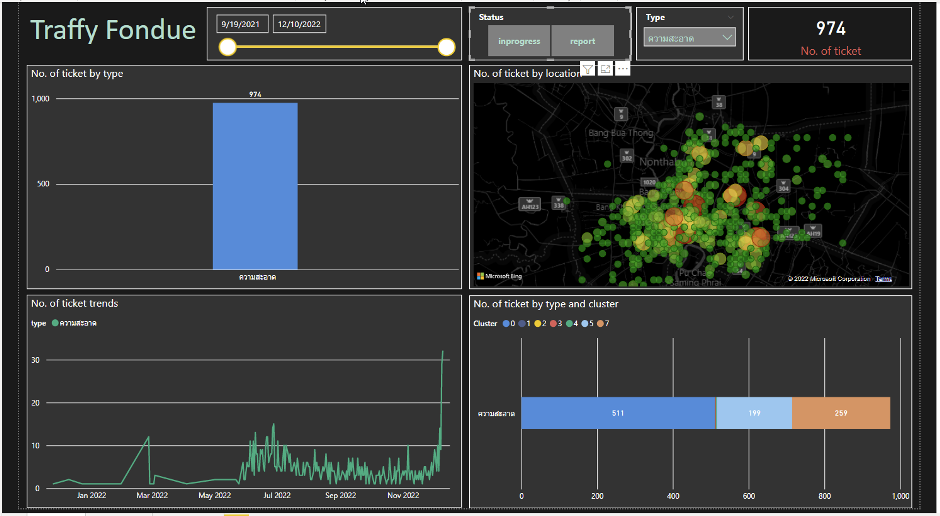

This screenshot's page, from the dashboard's own definition file:
{"tool":"powerbi","page":{"name":"Summary","canvas":[1280,720],"ordinal":0},"visuals":[{"type":"lineChart","title":"No. of ticket trends","fields":{"Series":["Project.type"],"Category":["Project.date.Variation.Date Hierarchy.Year","Project.date.Variation.Date Hierarchy.Month","Project.date.Variation.Date Hierarchy.Day"],"Y":["CountNonNull(Project.ticket_id)"]},"box":[10.6,416.7,618.9,303.3],"z":0},{"type":"map","title":"No. of ticket by location","fields":{"Y":["Project.lat_round"],"X":["Project.long_round"],"Size":["CountNonNull(Project.ticket_id)"]},"box":[640.2,89.6,630.4,319.2],"z":1000},{"type":"clusteredColumnChart","title":"No. of ticket by type","fields":{"Y":["CountNonNull(Project.ticket_id)"],"Category":["Project.type"]},"box":[10.6,89.6,618.9,319.2],"z":2000},{"type":"slicer","fields":{"Values":["Project.type"]},"box":[877.8,7.1,153.4,76.3],"z":3000},{"type":"slicer","fields":{"Values":["Project.status"]},"box":[640.2,7.1,230.5,76.3],"z":4000},{"type":"textbox","box":[10.6,7.1,256.3,78],"z":5000},{"type":"barChart","title":"No. of ticket by type and cluster","fields":{"Y":["CountNonNull(Project.ticket_id)"],"Category":["Project.type"],"Series":["Project.Cluster"]},"box":[640,417,630,303],"z":6000},{"type":"card","fields":{"Values":["Count(Project.ticket_id)"]},"box":[1037.4,7.1,233.2,76.3],"z":6001},{"type":"slicer","fields":{"Values":["Project.date"]},"box":[266.9,7.1,362.7,76.3],"z":6002}]}

Visuals, with their boxes in screenshot pixels (x1, y1, x2, y2), scaled from the page's 1280x720 canvas onto the 940x516 screenshot:
"No. of ticket trends" lineChart: bbox(8, 299, 462, 515)
"No. of ticket by location" map: bbox(470, 64, 933, 293)
"No. of ticket by type" clusteredColumnChart: bbox(8, 64, 462, 293)
slicer - Project.type: bbox(645, 5, 757, 60)
slicer - Project.status: bbox(470, 5, 639, 60)
textbox: bbox(8, 5, 196, 61)
"No. of ticket by type and cluster" barChart: bbox(470, 299, 933, 515)
card - Count(Project.ticket_id): bbox(762, 5, 933, 60)
slicer - Project.date: bbox(196, 5, 462, 60)
